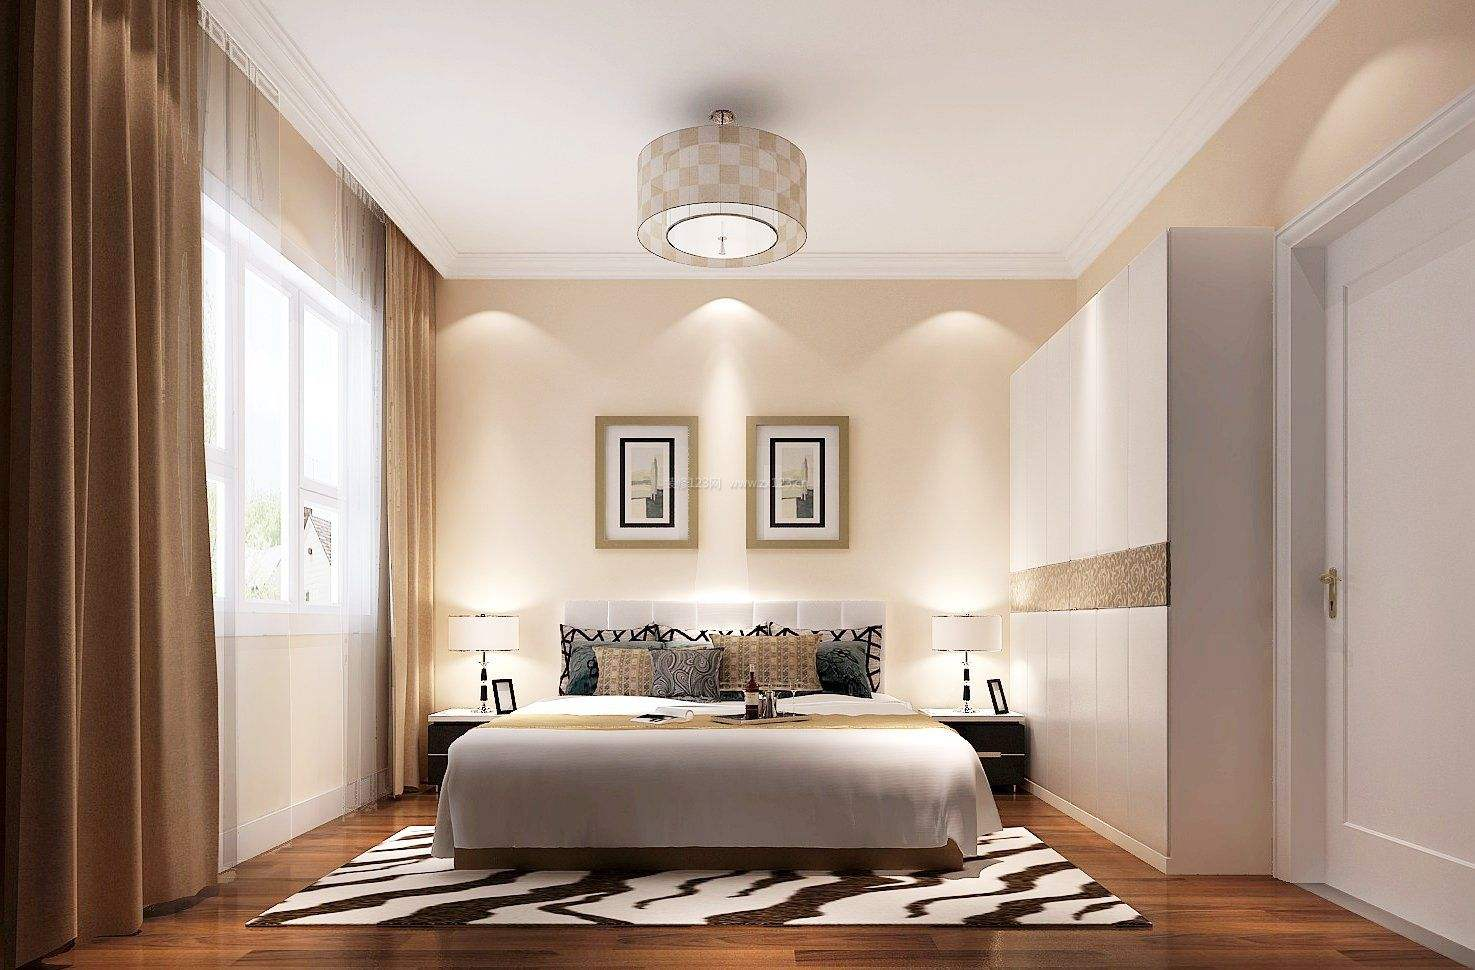床: (453, 693, 987, 870)
枕头: (559, 620, 873, 710)
灯: (631, 103, 817, 272), (442, 617, 523, 725), (931, 608, 999, 725)
